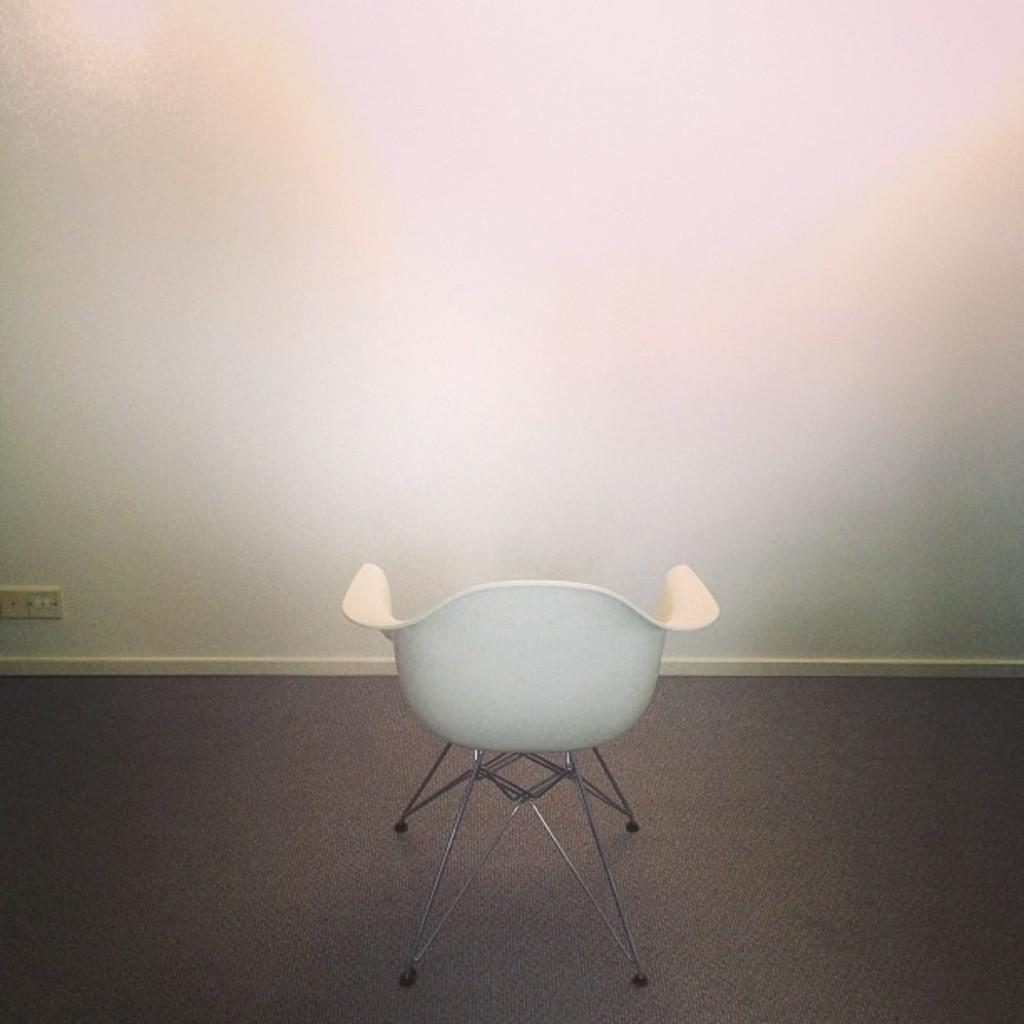Chair: (313, 529, 724, 972)
